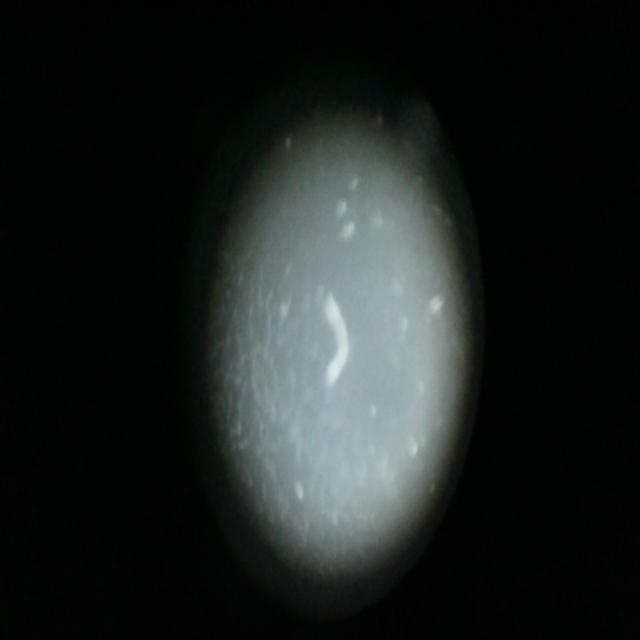psudo-nitzschia: (322, 291, 354, 387)
